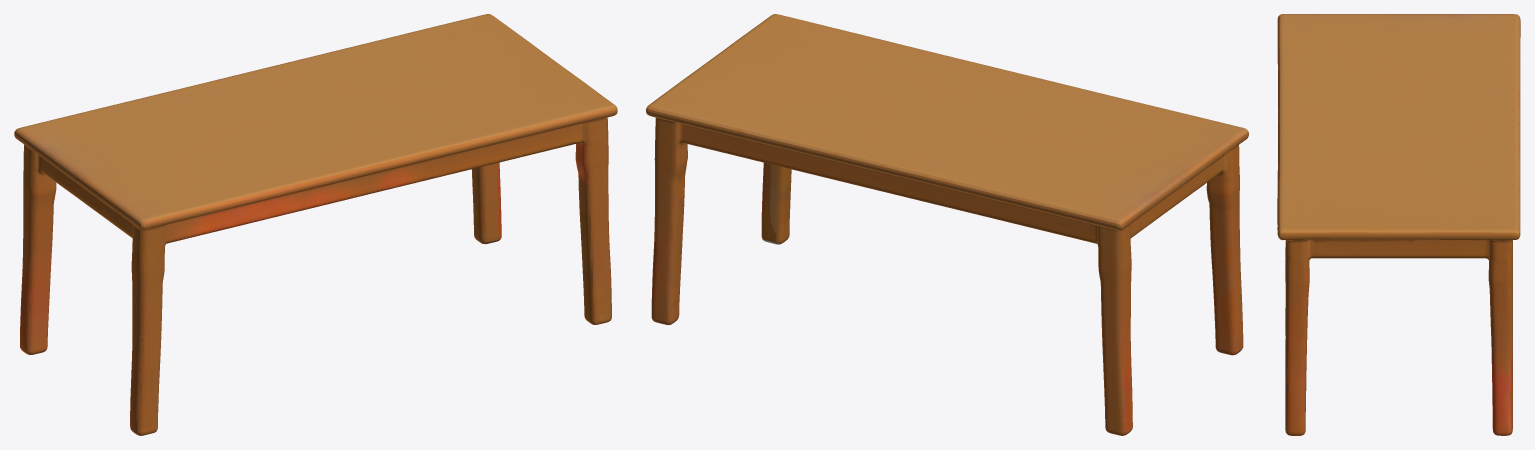
File: table__table#1.glb
3 views of the same model, side by side, from view 1: azimuth 30°, elevation 25°; view 2: azimuth 150°, elevation 25°; view 3: azimuth 270°, elevation 25° (orthographic). The views are drawn at different scales.
Parts seen in each view (by area): view 1: tmphqgy3xht.ply; view 2: tmphqgy3xht.ply; view 3: tmphqgy3xht.ply.
Part boxes in pixels (<box>): tmphqgy3xht.ply: <box>14,14,617,435</box>; tmphqgy3xht.ply: <box>646,14,1248,435</box>; tmphqgy3xht.ply: <box>1277,14,1520,435</box>.
Bounding box in the file's own units: 1.99 × 0.8747 × 0.9326.
1 material, 1 textured.
